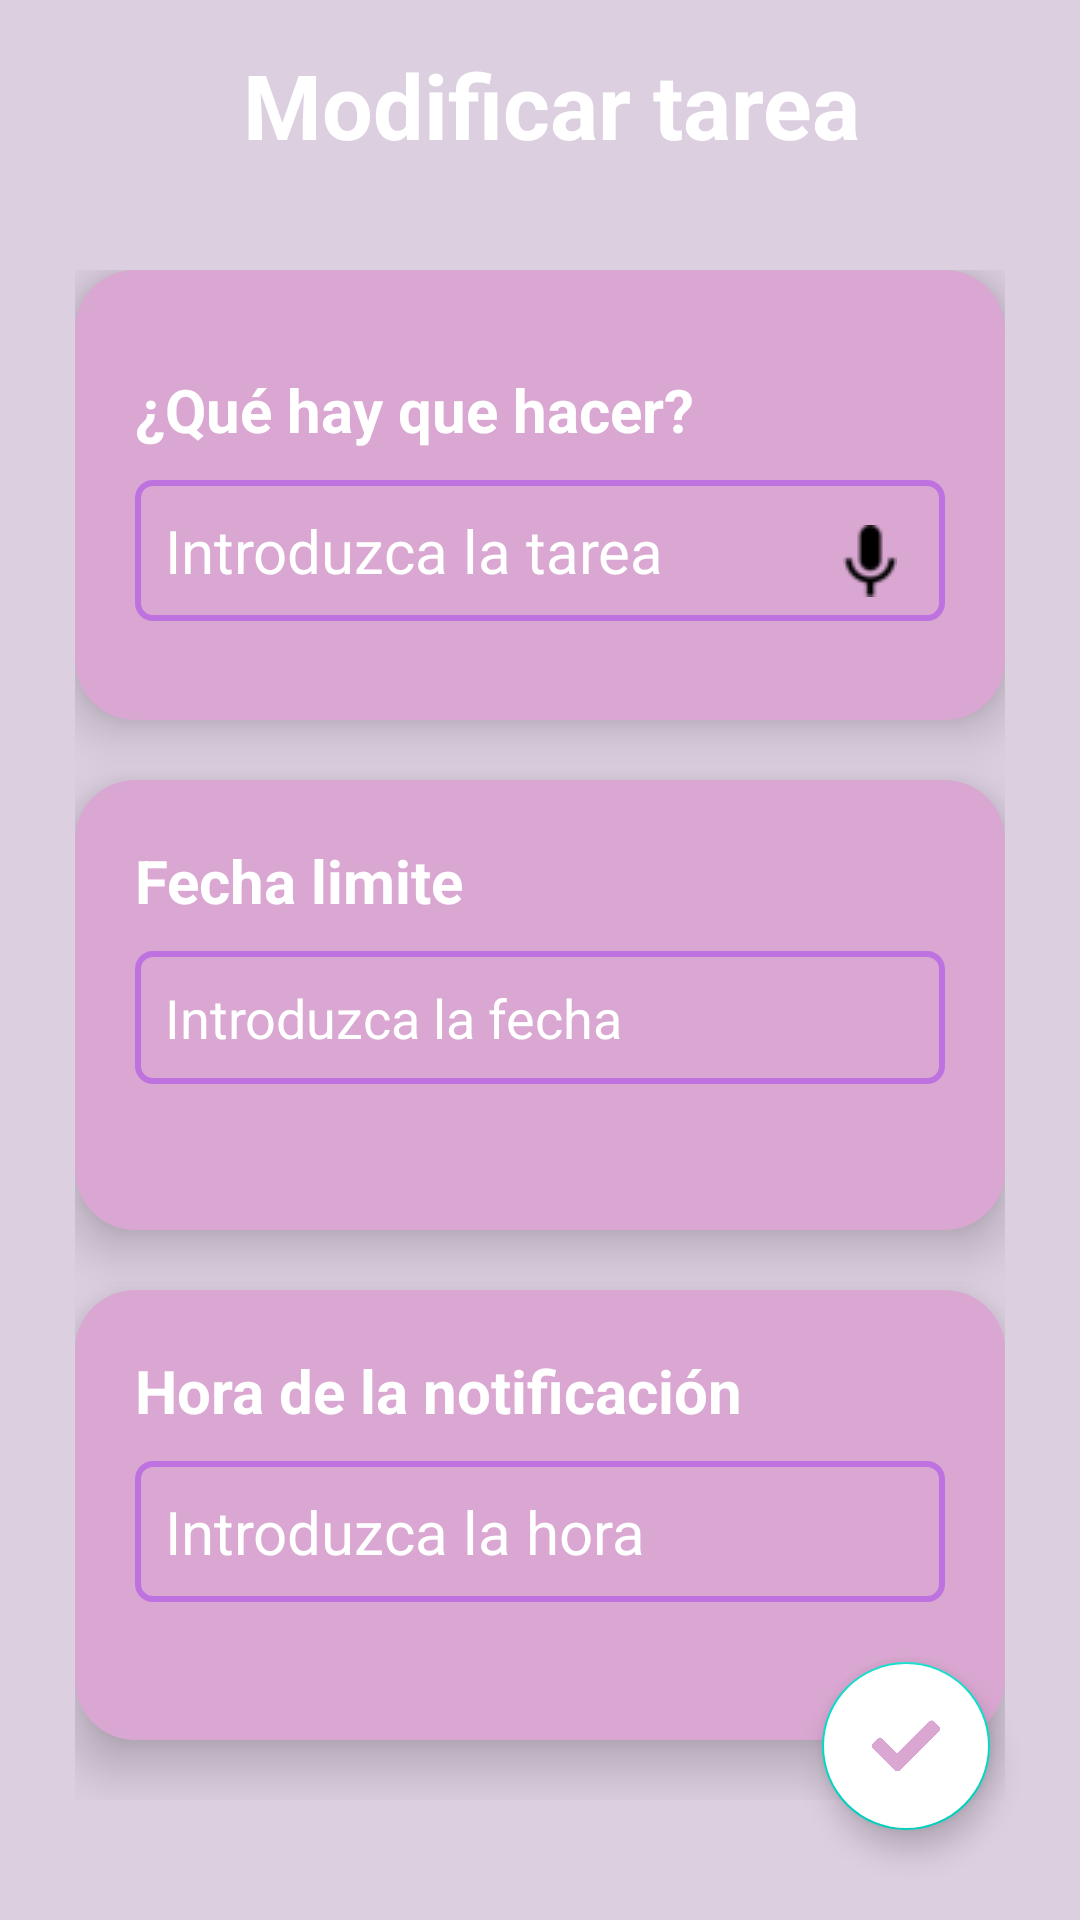

Screen size 1080x1920. Icon name, then its center in pixels as point (x, y):
check: point (906, 1746)
